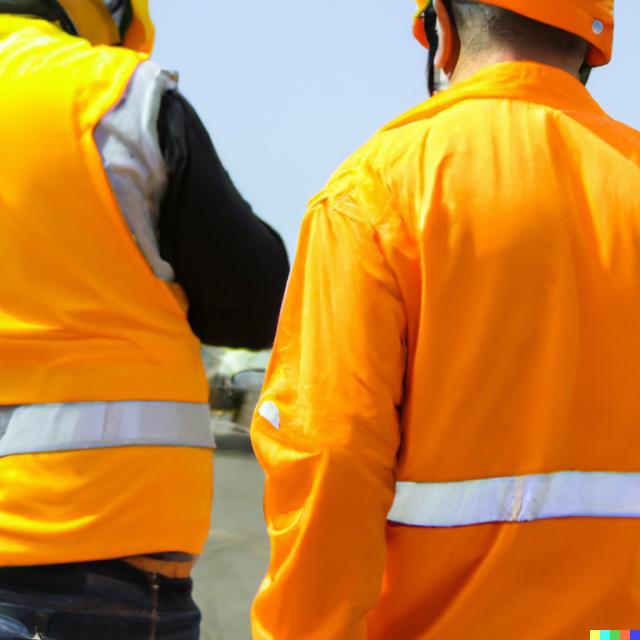Reflective-Jacket: (239, 46, 640, 638), (6, 0, 221, 597)
Safety-Helmet: (415, 0, 619, 56)
